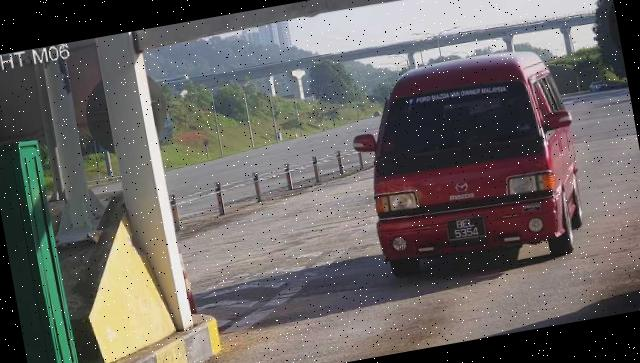License_Plate: (445, 213, 488, 245)
van: (351, 44, 595, 286)
